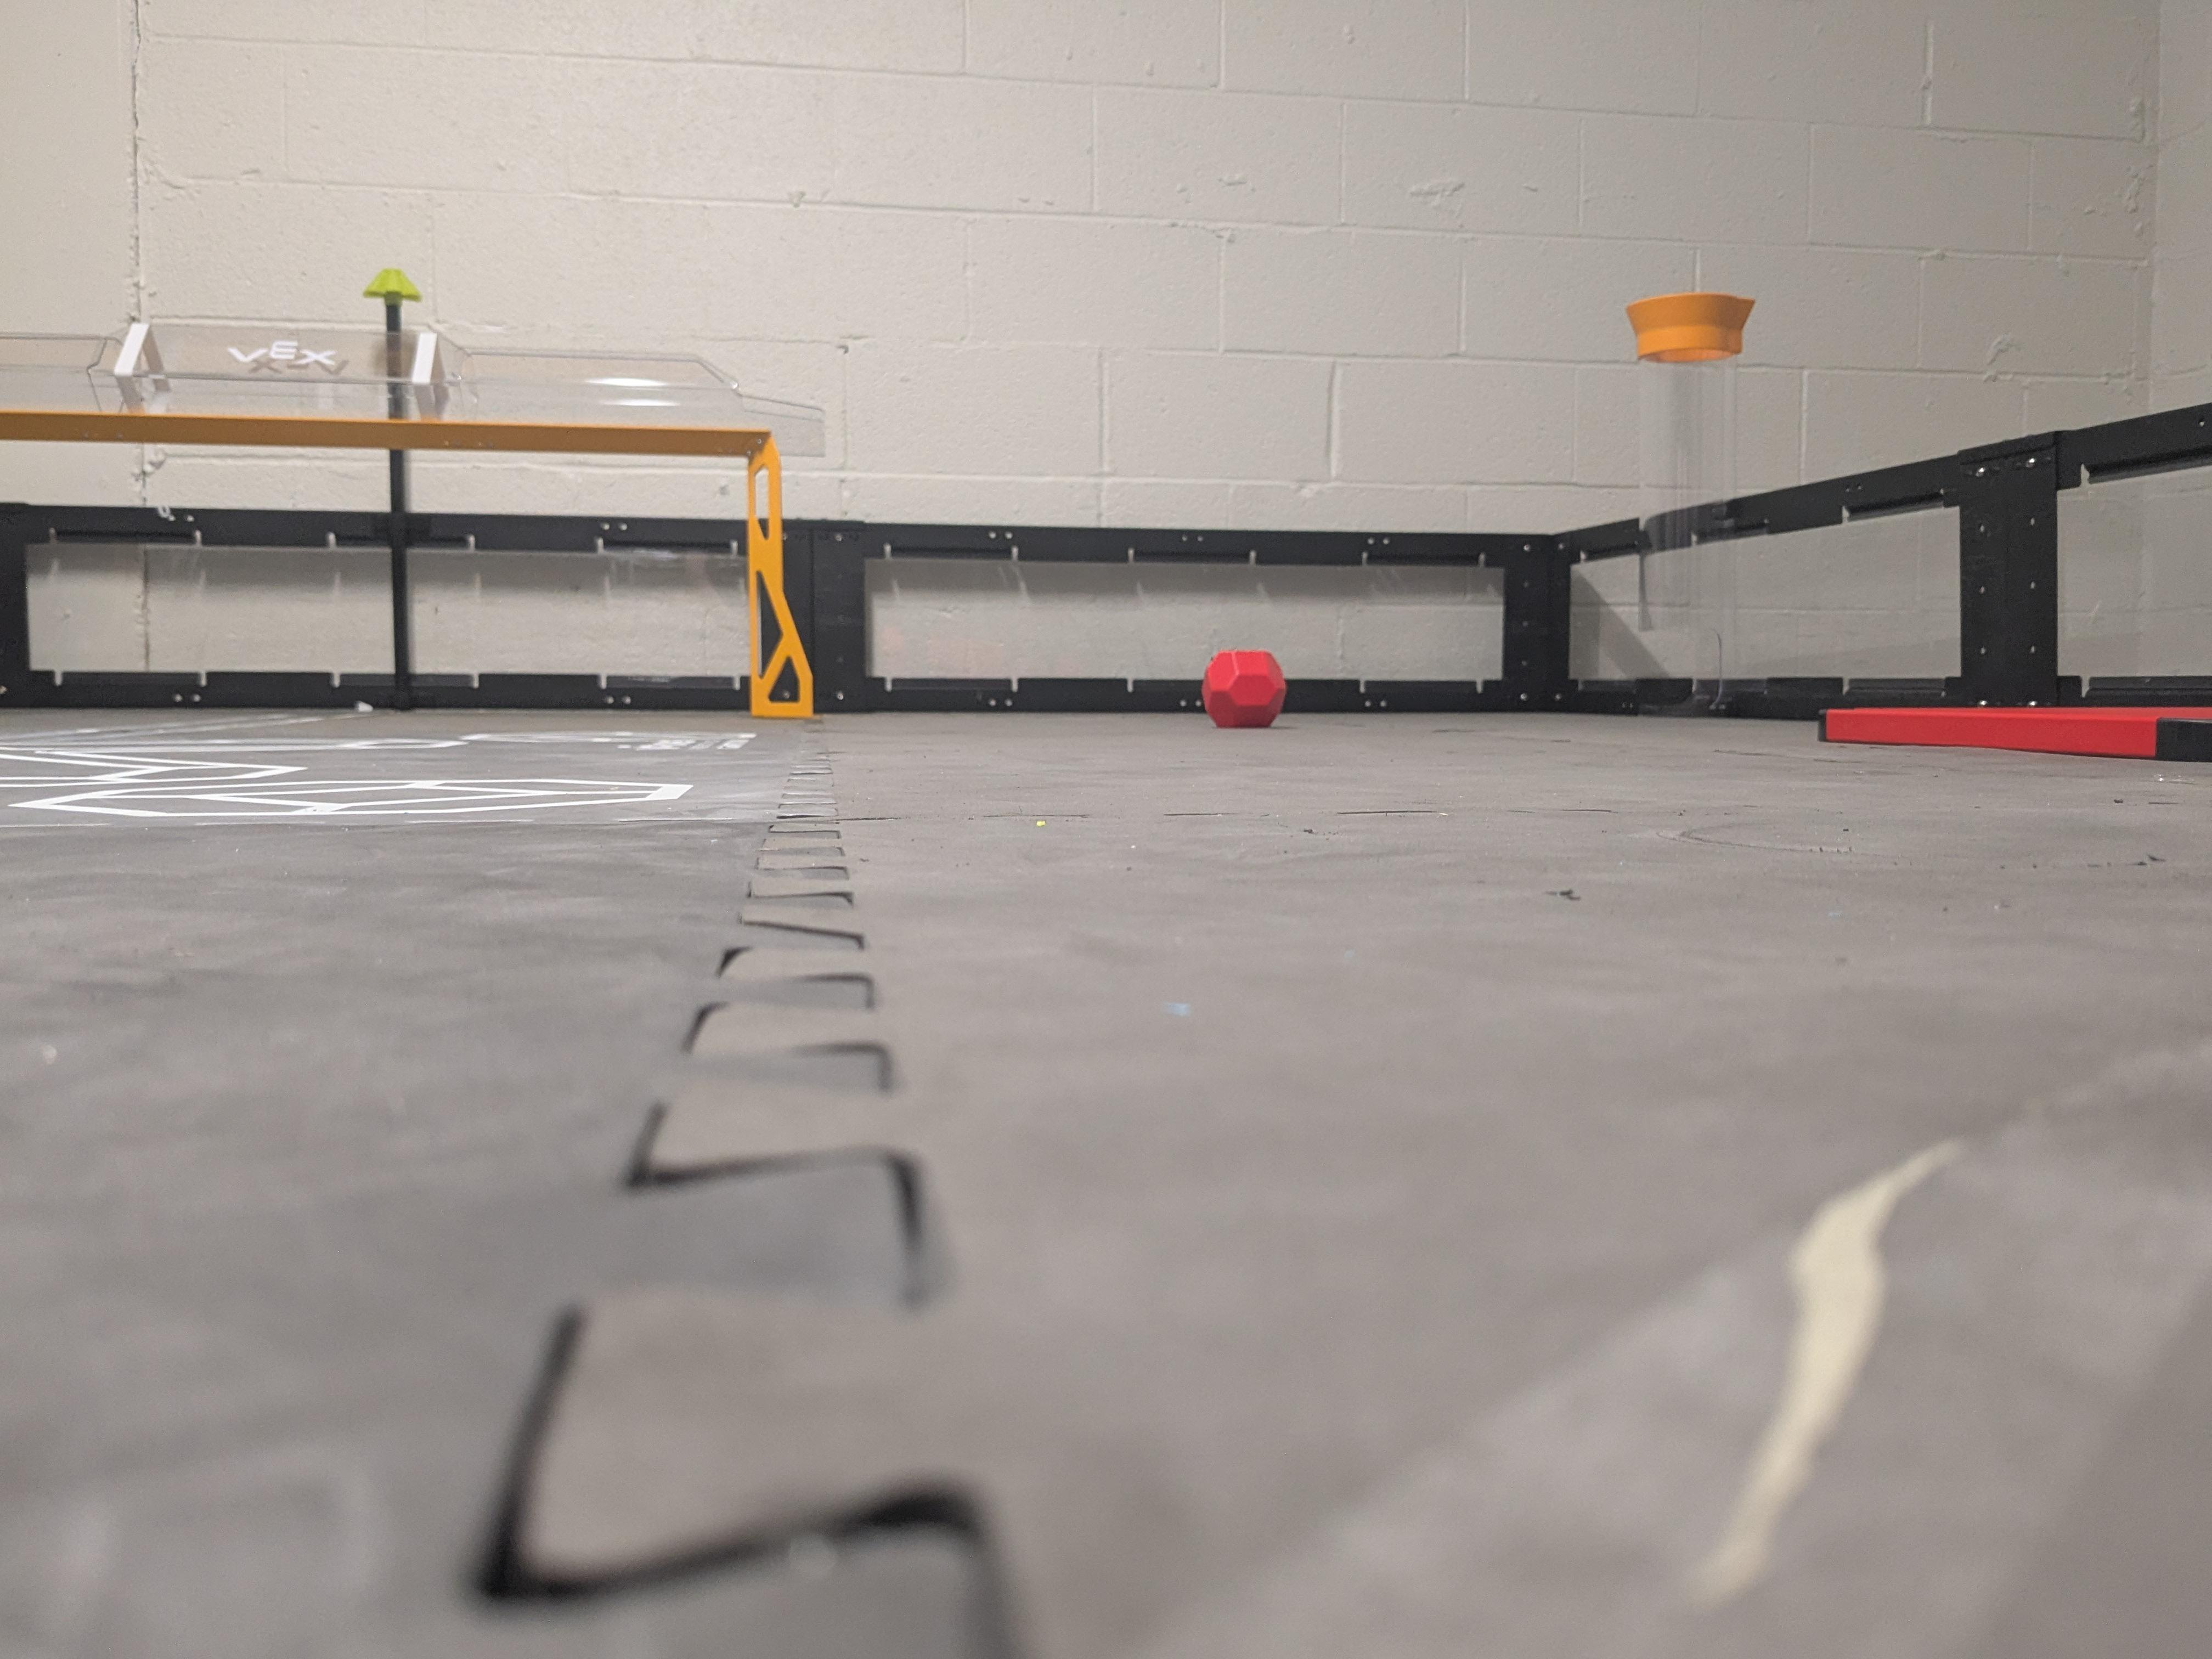Vex-Pieces-RED: (1200, 650, 1285, 728)
